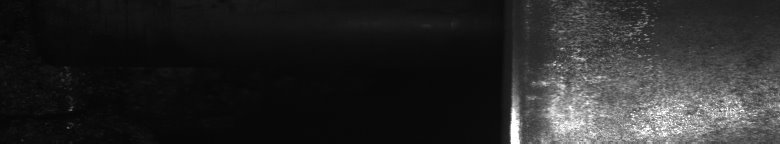kb: (527, 5, 776, 136)
